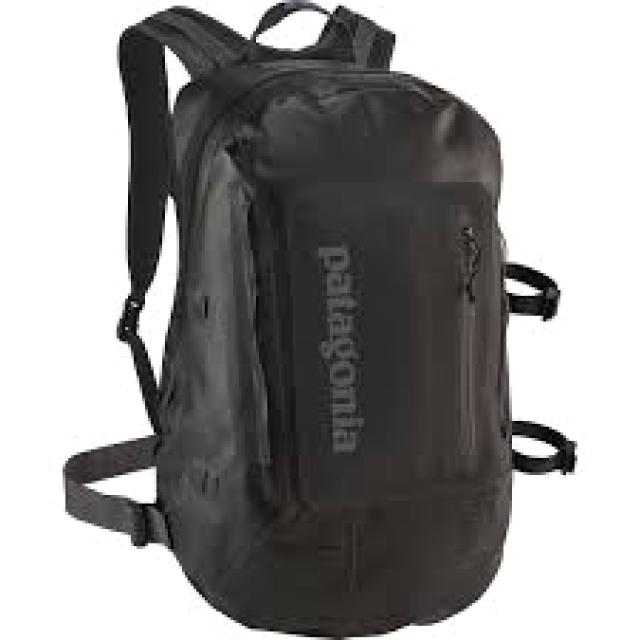backpack: (61, 1, 579, 638)
